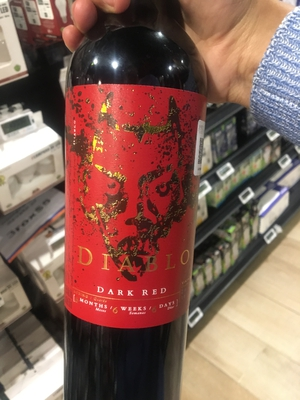diablo dark red: (56, 12, 224, 400)
